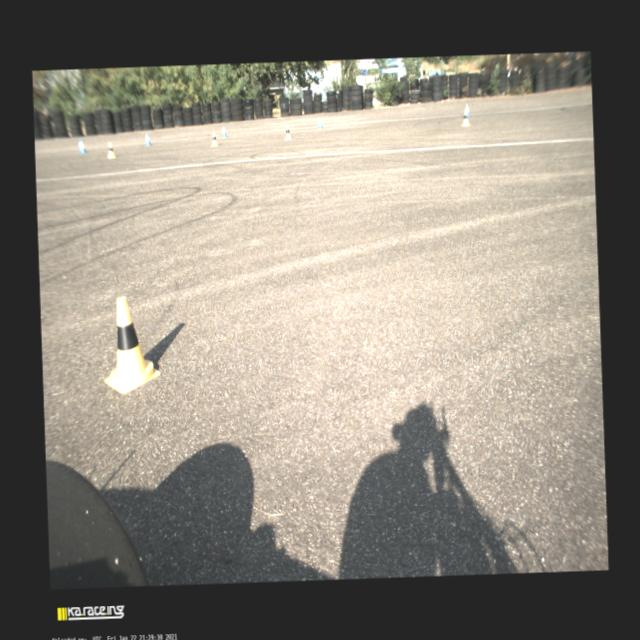blue_cone: (144, 132, 151, 146), (78, 140, 86, 152), (316, 116, 323, 128), (221, 125, 227, 136), (466, 103, 470, 117)
yellow_cone: (100, 294, 160, 394), (460, 110, 470, 126), (106, 141, 115, 158), (284, 124, 292, 140), (210, 131, 218, 146)
